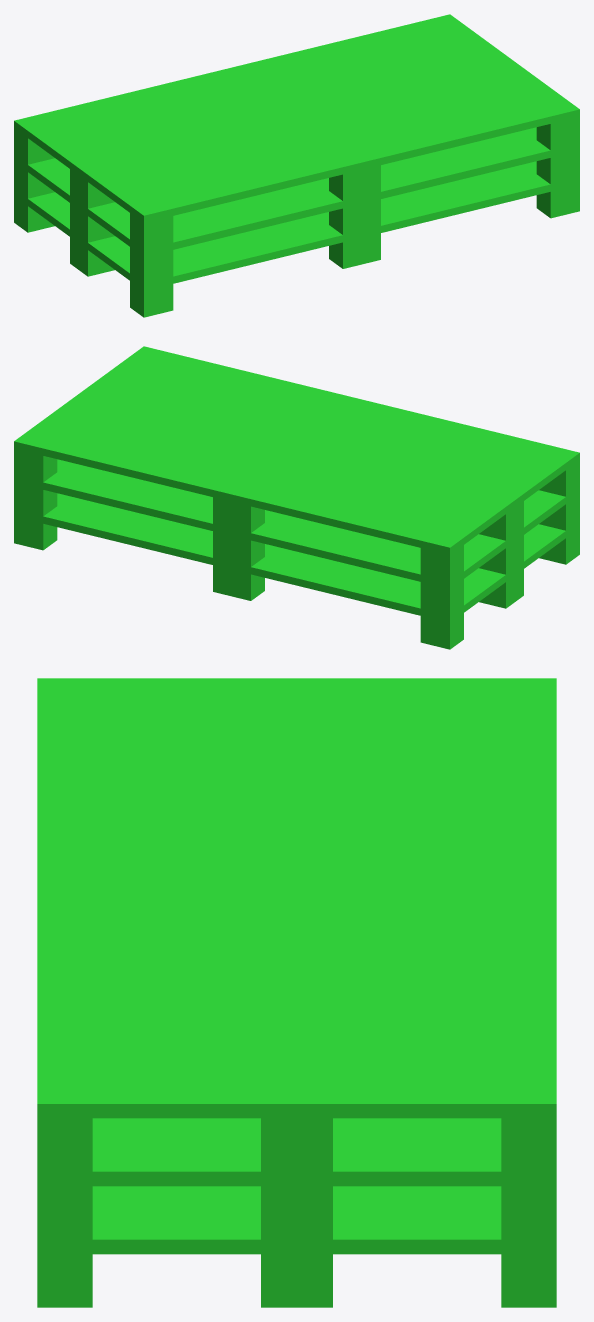
Rendered from outerTableA.fbx.
3 views of the same model, one above another, from view 1: azimuth 30°, elevation 25°; view 2: azimuth 150°, elevation 25°; view 3: azimuth 270°, elevation 25° (orthographic). The views are drawn at different scales.
Parts seen in each view (by area): view 1: outerTableA; view 2: outerTableA; view 3: outerTableA.
Part boxes in pixels (left/top/right/bottom): outerTableA: left=14, top=14, right=579, bottom=317; outerTableA: left=14, top=346, right=579, bottom=649; outerTableA: left=37, top=678, right=556, bottom=1307.
Size of the model in its own units: 173 by 38.56 by 89.07.
